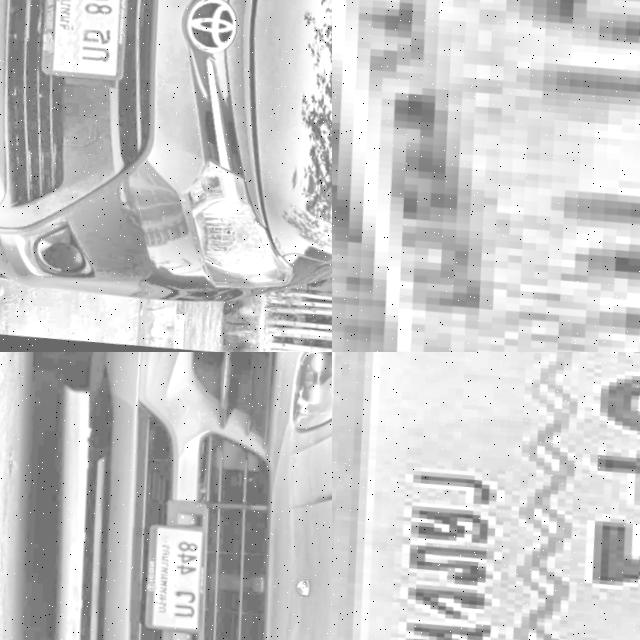license-plate: (332, 0, 640, 352), (332, 352, 640, 640), (29, 0, 129, 84), (134, 520, 206, 633)
